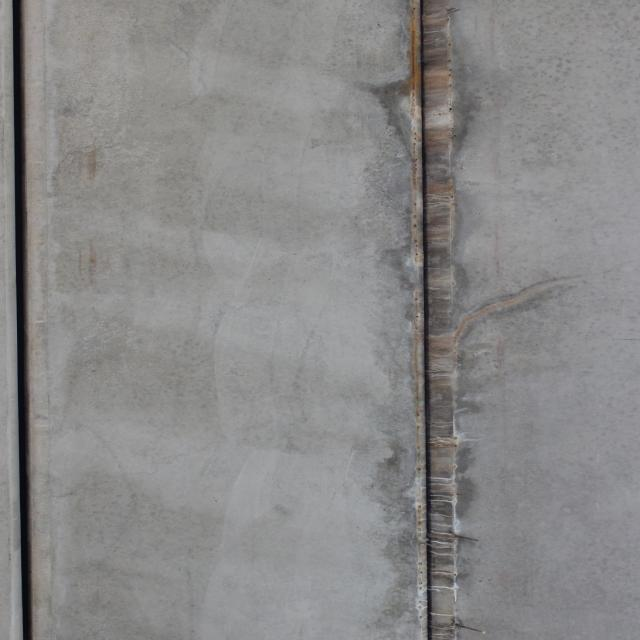corrosion: (398, 3, 467, 640)
